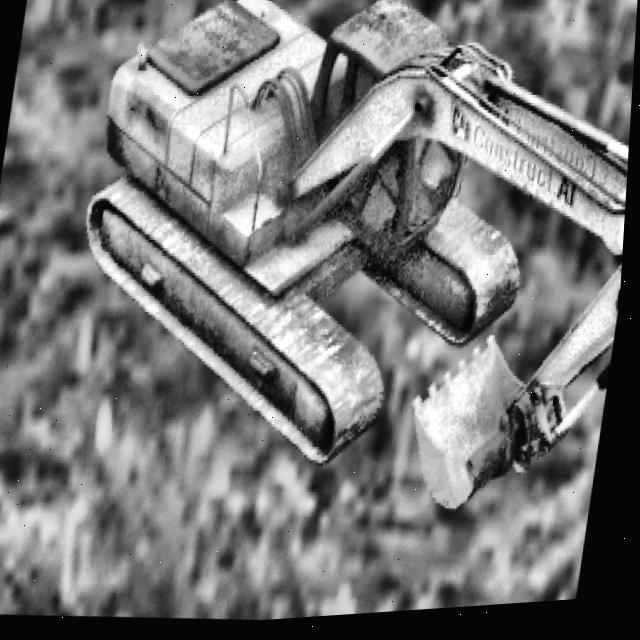excavator: (47, 0, 640, 545)
